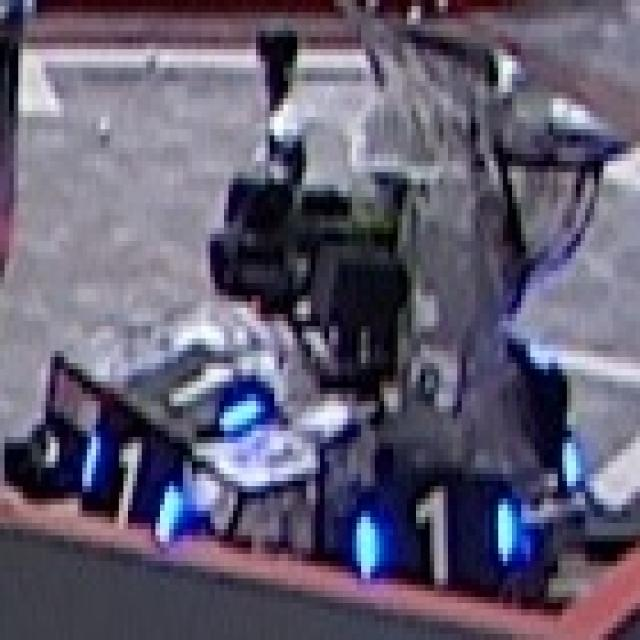B1: (352, 474, 526, 584), (78, 431, 187, 542), (142, 345, 265, 437)
